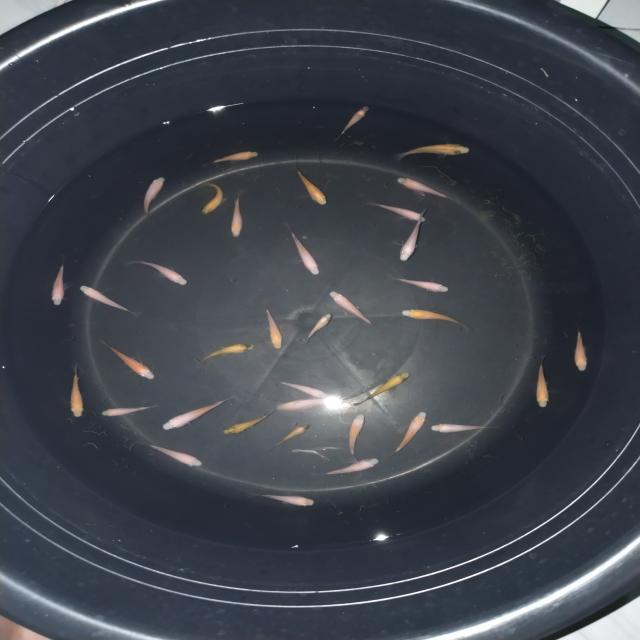nila: (98, 337, 160, 383), (157, 397, 228, 432), (353, 367, 414, 407), (78, 282, 145, 318), (328, 286, 380, 332), (388, 408, 432, 459), (126, 256, 192, 290), (283, 222, 323, 278), (292, 158, 332, 207), (393, 173, 456, 204), (139, 170, 175, 223), (266, 391, 338, 417), (399, 306, 473, 331), (394, 140, 477, 162), (331, 104, 376, 144), (144, 443, 212, 469), (396, 210, 428, 265), (364, 198, 428, 224), (196, 340, 257, 366), (220, 410, 276, 438), (567, 324, 598, 374), (316, 456, 382, 479), (343, 411, 370, 465), (256, 488, 320, 510), (532, 354, 556, 411), (260, 305, 288, 353), (195, 178, 227, 220), (203, 147, 263, 169), (388, 274, 453, 294), (66, 364, 89, 420), (426, 418, 496, 436), (299, 312, 336, 346), (274, 380, 336, 400), (48, 259, 69, 310), (227, 191, 248, 241), (269, 424, 314, 447), (99, 402, 154, 420)
